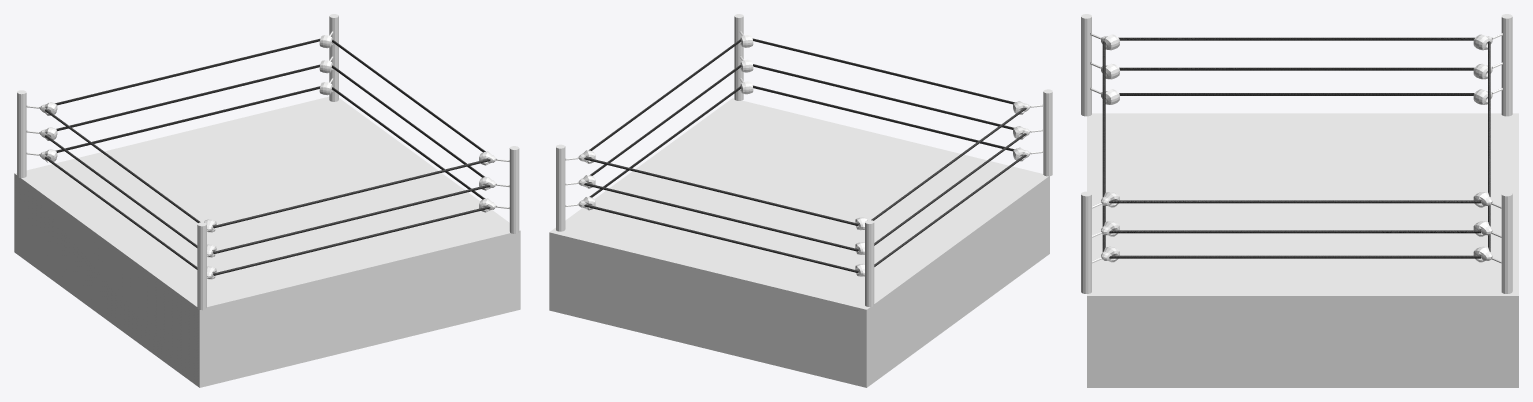
File: ring-standard.glb
3 renders of one model, left to right at view 1: azimuth 30°, elevation 25°; view 2: azimuth 150°, elevation 25°; view 3: azimuth 270°, elevation 25°, orthographic. The views are drawn at different scales.
Visible parts, largest first — view 1: canvas, apron-south, apron-west, ring-post-nw, rope-north-middle, rope-north-bottom, rope-north-top, rope-south-top, ring-post-ne, ring-post-se, rope-south-middle, rope-south-bottom (+7 smaller); view 2: canvas, apron-north, apron-west, rope-south-top, rope-south-middle, rope-south-bottom, ring-post-sw, ring-post-ne, rope-north-top, ring-post-se, rope-north-middle, rope-north-bottom (+7 smaller); view 3: canvas, apron-east, rope-west-top, rope-west-middle, rope-west-bottom, rope-east-top, rope-east-middle, ring-post-sw, ring-post-se, ring-post-nw, ring-post-ne, rope-east-bottom (+2 smaller).
Part boxes in pixels (left/top/right/bottom): canvas: left=15, top=96, right=519, bottom=306; apron-south: left=199, top=230, right=520, bottom=387; apron-west: left=14, top=173, right=199, bottom=387; ring-post-nw: left=509, top=146, right=519, bottom=233; rope-north-middle: left=213, top=184, right=490, bottom=253; rope-north-bottom: left=213, top=206, right=490, bottom=275; rope-north-top: left=213, top=159, right=490, bottom=228; rope-south-top: left=55, top=38, right=320, bottom=105; ring-post-ne: left=197, top=222, right=206, bottom=310; ring-post-se: left=17, top=90, right=26, bottom=177; rope-south-middle: left=56, top=64, right=319, bottom=130; rope-south-bottom: left=55, top=86, right=320, bottom=152; canvas: left=549, top=98, right=1048, bottom=309; apron-north: left=549, top=232, right=866, bottom=387; apron-west: left=866, top=176, right=1049, bottom=387; rope-south-top: left=584, top=157, right=858, bottom=225; rope-south-middle: left=584, top=183, right=858, bottom=251; rope-south-bottom: left=584, top=204, right=858, bottom=272; ring-post-sw: left=556, top=144, right=565, bottom=231; ring-post-ne: left=1043, top=89, right=1052, bottom=176; rope-north-top: left=752, top=38, right=1015, bottom=104; ring-post-se: left=865, top=220, right=874, bottom=306; rope-north-middle: left=753, top=64, right=1014, bottom=129; rope-north-bottom: left=753, top=85, right=1014, bottom=151; canvas: left=1087, top=113, right=1518, bottom=295; apron-east: left=1087, top=296, right=1518, bottom=387; rope-west-top: left=1109, top=200, right=1480, bottom=203; rope-west-middle: left=1109, top=230, right=1480, bottom=233; rope-west-bottom: left=1109, top=255, right=1480, bottom=258; rope-east-top: left=1118, top=37, right=1474, bottom=40; rope-east-middle: left=1119, top=67, right=1473, bottom=70; ring-post-sw: left=1501, top=191, right=1512, bottom=293; ring-post-se: left=1501, top=14, right=1512, bottom=116; ring-post-nw: left=1081, top=191, right=1091, bottom=293; ring-post-ne: left=1081, top=14, right=1091, bottom=116; rope-east-bottom: left=1119, top=93, right=1474, bottom=95.
Bounding box in the file's own units: 6.82 × 3.3 × 6.88.
10 materials, 3 textured.
